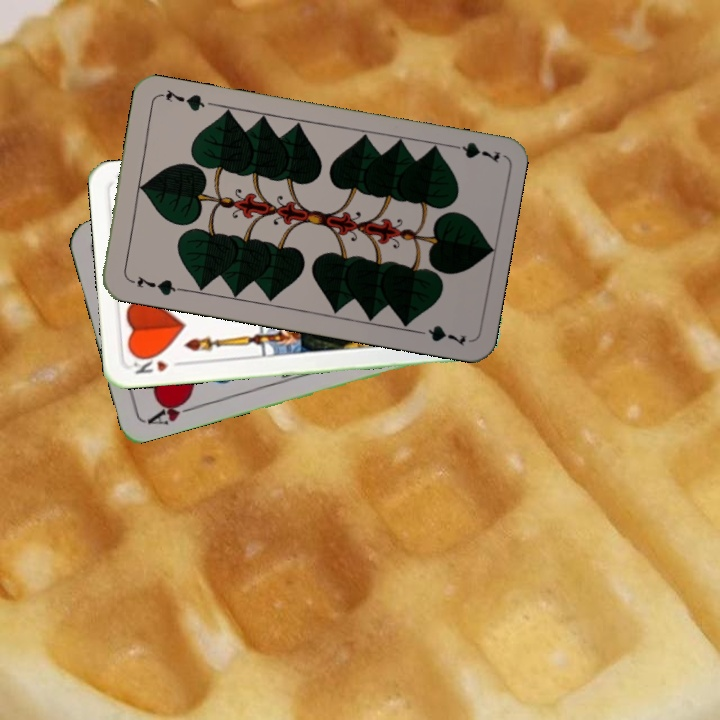G7: (443, 138, 502, 165), (133, 272, 184, 298)
HA: (144, 392, 202, 428)
HK: (127, 350, 187, 377)
